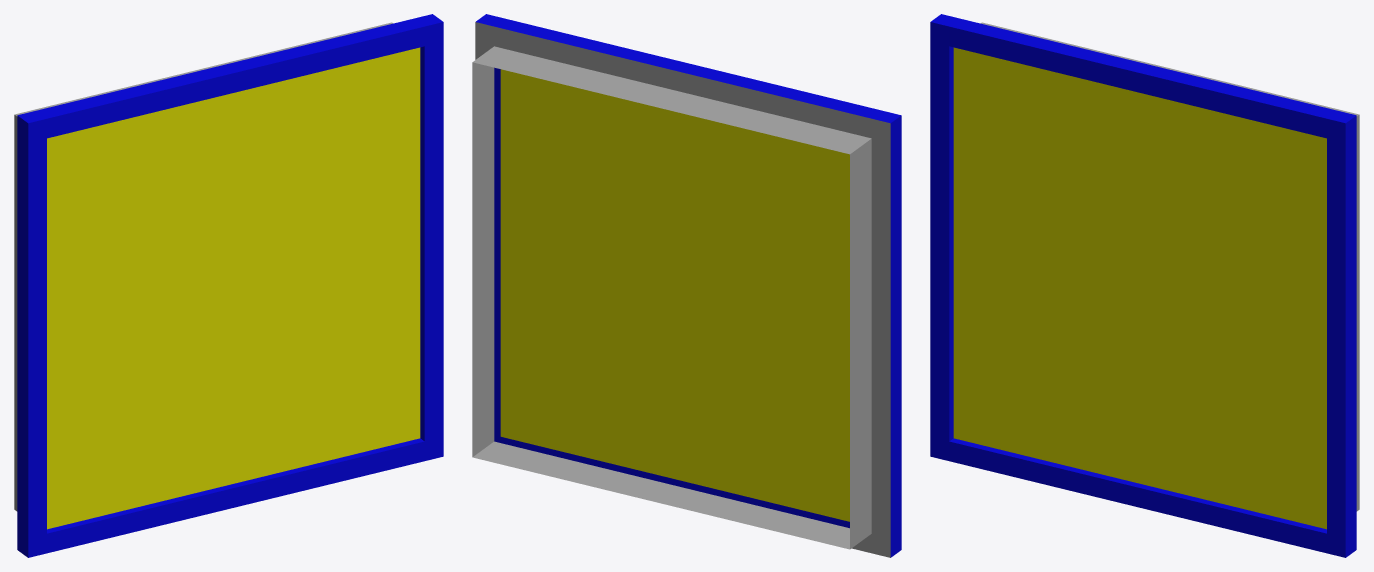
Rendered from Window1.fbx.
3 renders of one model, left to right at view 1: azimuth 30°, elevation 25°; view 2: azimuth 150°, elevation 25°; view 3: azimuth 330°, elevation 25°, orthographic.
Visible parts, largest first — view 1: Window1; view 2: Window1; view 3: Window1.
Part boxes in pixels (x1=…): Window1: x1=14, y1=14, x2=443, y2=557; Window1: x1=472, y1=14, x2=901, y2=557; Window1: x1=930, y1=14, x2=1359, y2=557.
Size of the model in its own units: 110 by 110 by 15.
